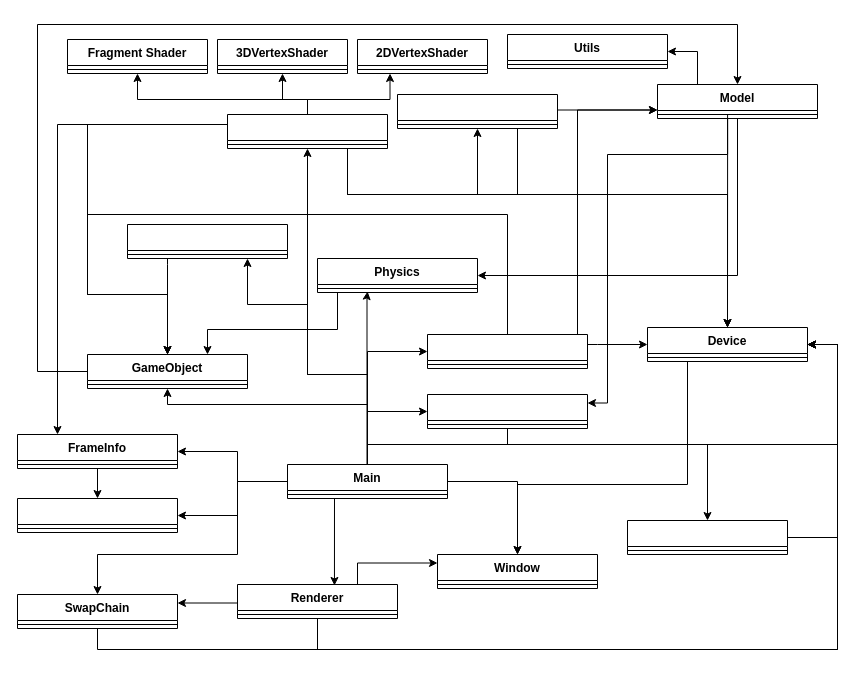
Image size: 863x675. Some labels were removed from this diagram. Here are the shapes that lost their labels. From the top down, the box of each, then its label:
(226, 114, 388, 148): SimpleRenderSystem
(396, 94, 558, 128): Pipeline
(126, 224, 288, 258): KeyboardInput
(426, 334, 588, 368): Screen
(426, 394, 588, 428): Buffer
(16, 498, 178, 532): Camera
(626, 520, 788, 554): Descriptors
